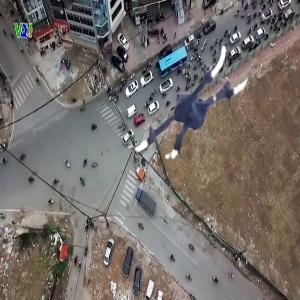drone: (117, 31, 254, 168)
